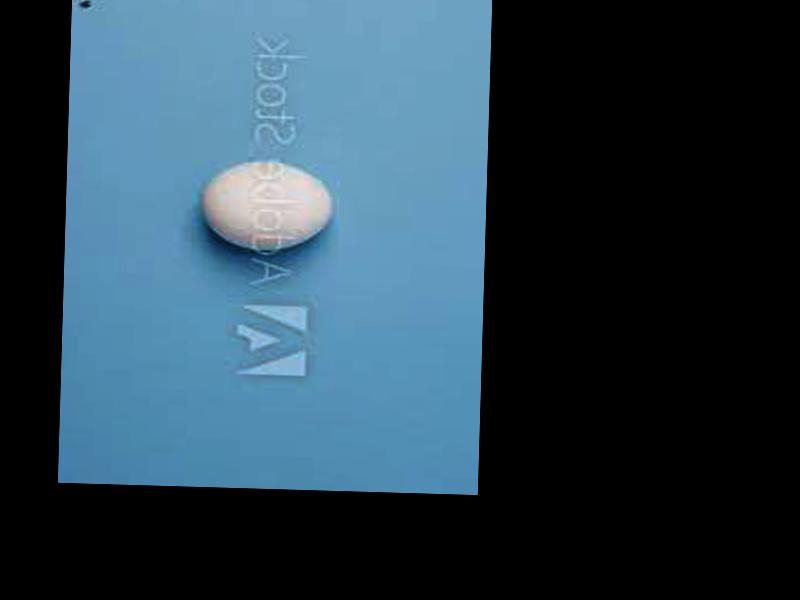Eggs: (202, 160, 330, 251)
